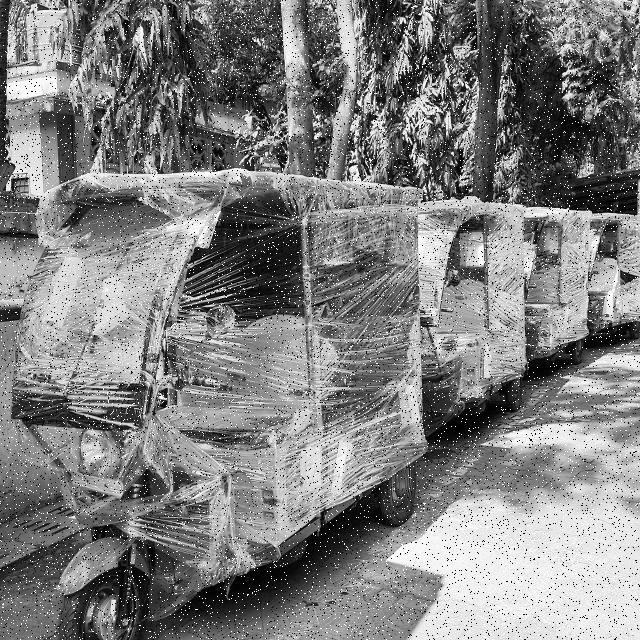Toto: (19, 167, 430, 640), (419, 199, 531, 451)
